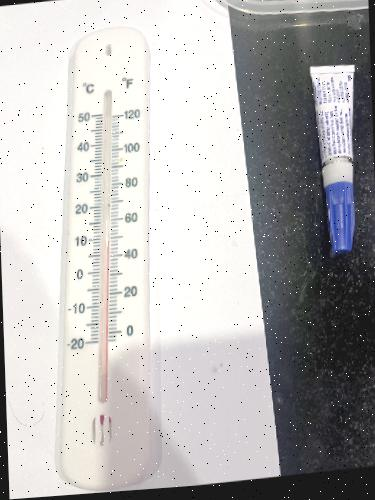thermo: (56, 22, 169, 489)
